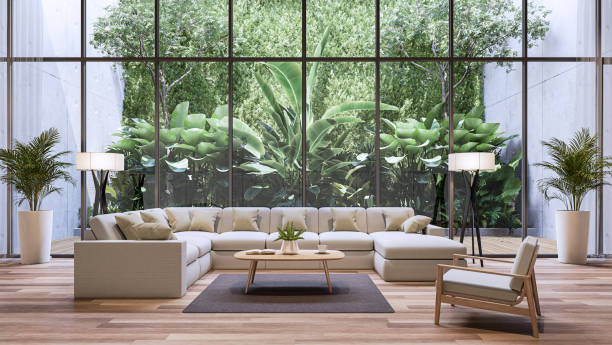chair: (432, 233, 543, 334)
floor lamp: (447, 149, 496, 268), (72, 147, 125, 214)
large plant: (537, 128, 611, 264), (0, 127, 72, 265)
small plant: (273, 219, 309, 255)
sofa: (70, 202, 468, 301)
table: (233, 247, 345, 297)
